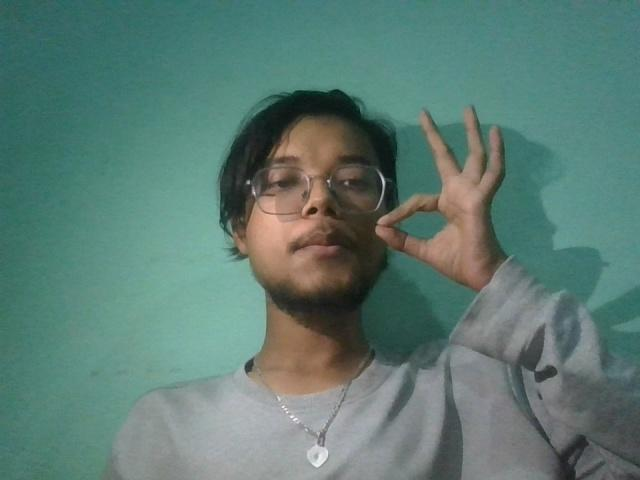Cat: (359, 98, 537, 309)
